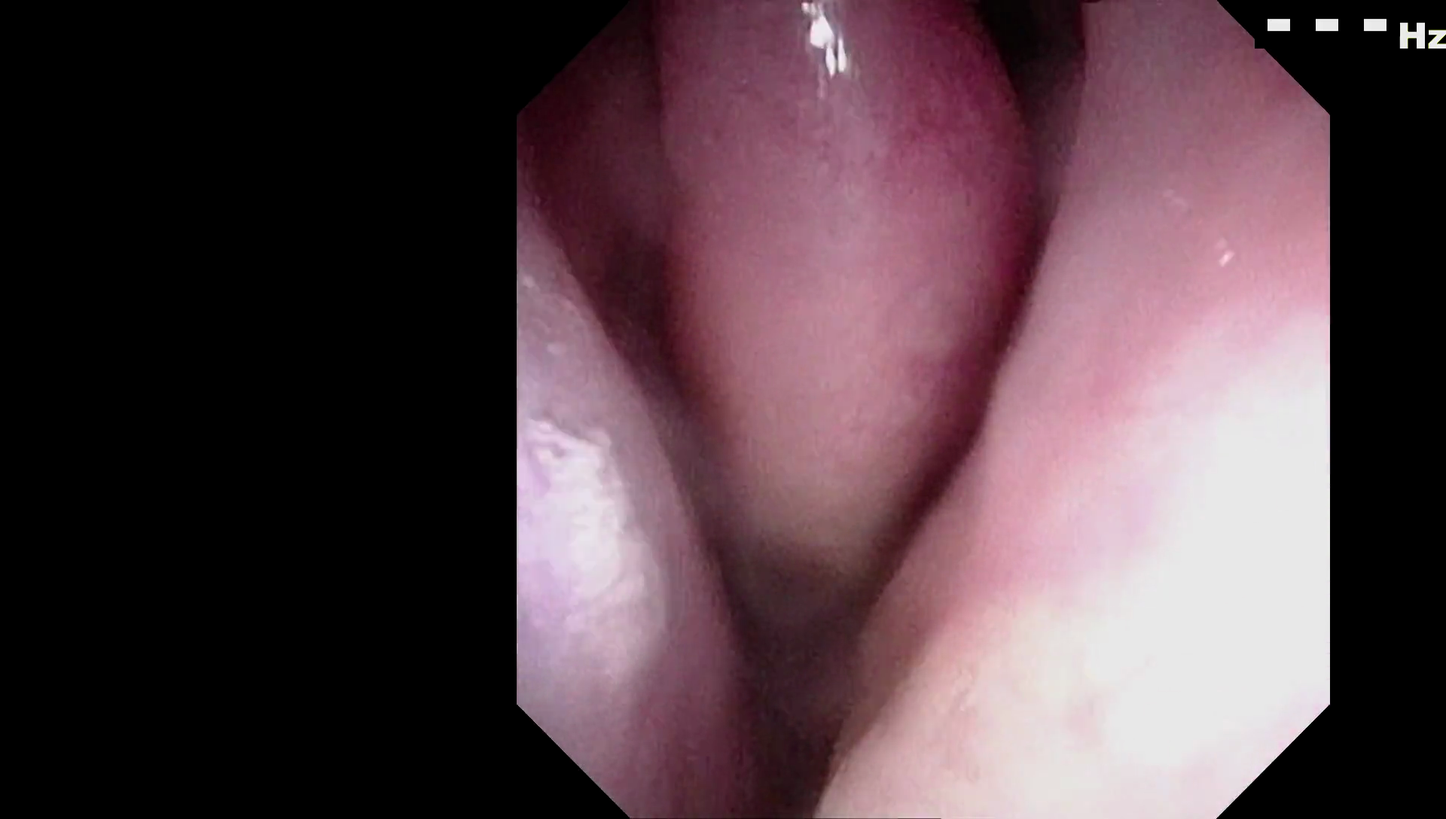close_wall: (973, 247, 1320, 718), (517, 340, 702, 680)
next: (655, 513, 886, 819), (922, 0, 1107, 163)
